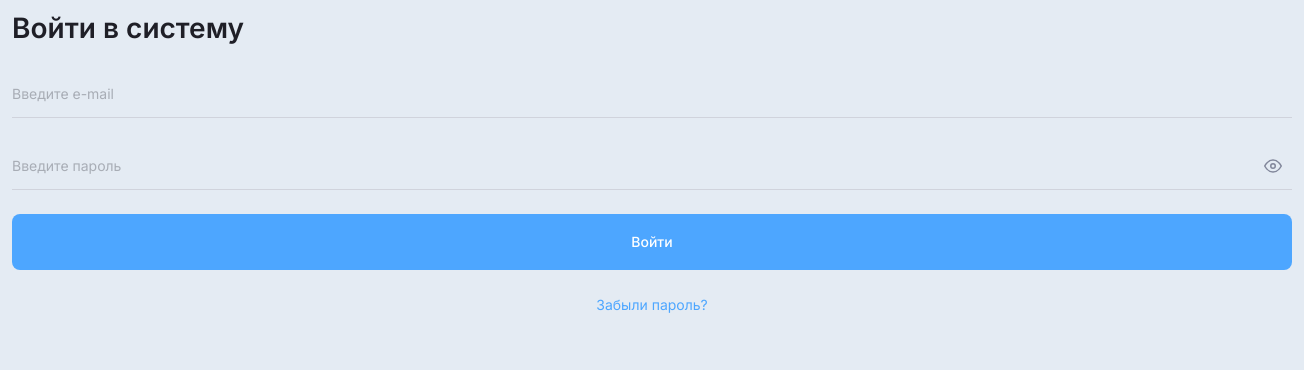
SignInForm › shows validation errors on empty submit
Click the button "Войти" at (652, 242), box [12,214,1292,270]
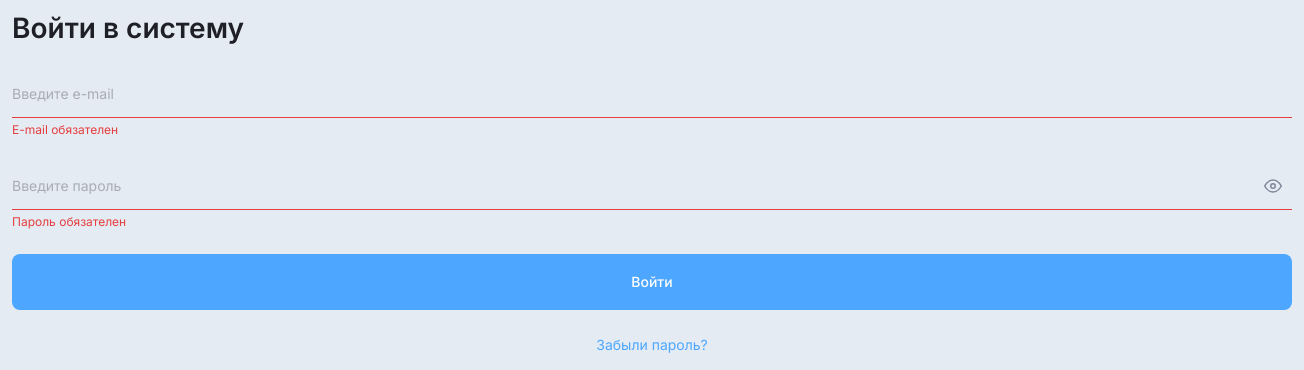
Check: the text "E-mail обязателен" is shown, box [12,122,118,137]
